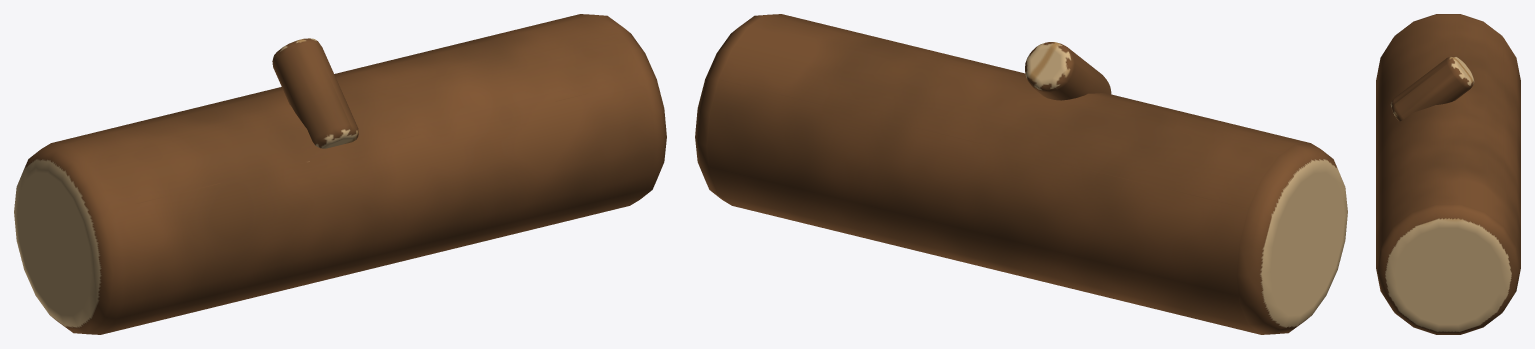
Rendered from item_log.glb.
3 renders of one model, left to right at view 1: azimuth 30°, elevation 25°; view 2: azimuth 150°, elevation 25°; view 3: azimuth 270°, elevation 25°, orthographic. The views are drawn at different scales.
Parts seen in each view (by area): view 1: log; view 2: log; view 3: log.
Part boxes in pixels (box(x1,y1,x2,y2)): log: box(14, 14, 666, 334); log: box(695, 14, 1347, 334); log: box(1376, 14, 1520, 334).
Size of the model in its own units: 0.8 by 0.308 by 0.24.
Materials: 1 (1 with a texture image).
